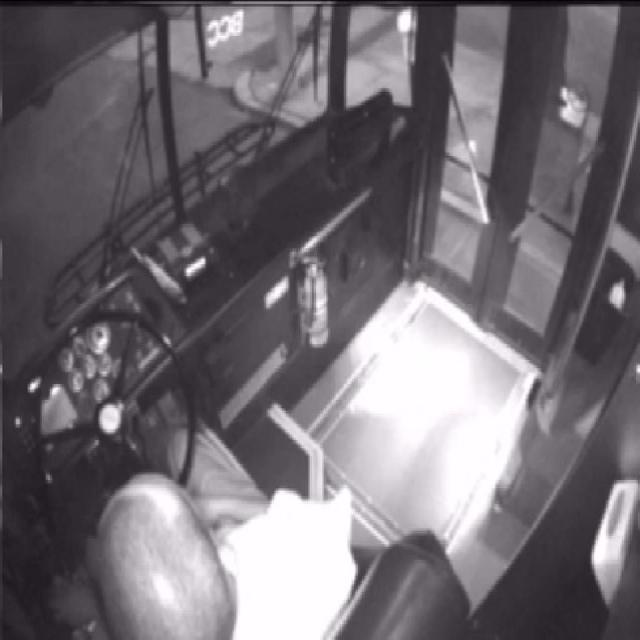bus-door: (410, 10, 632, 370)
